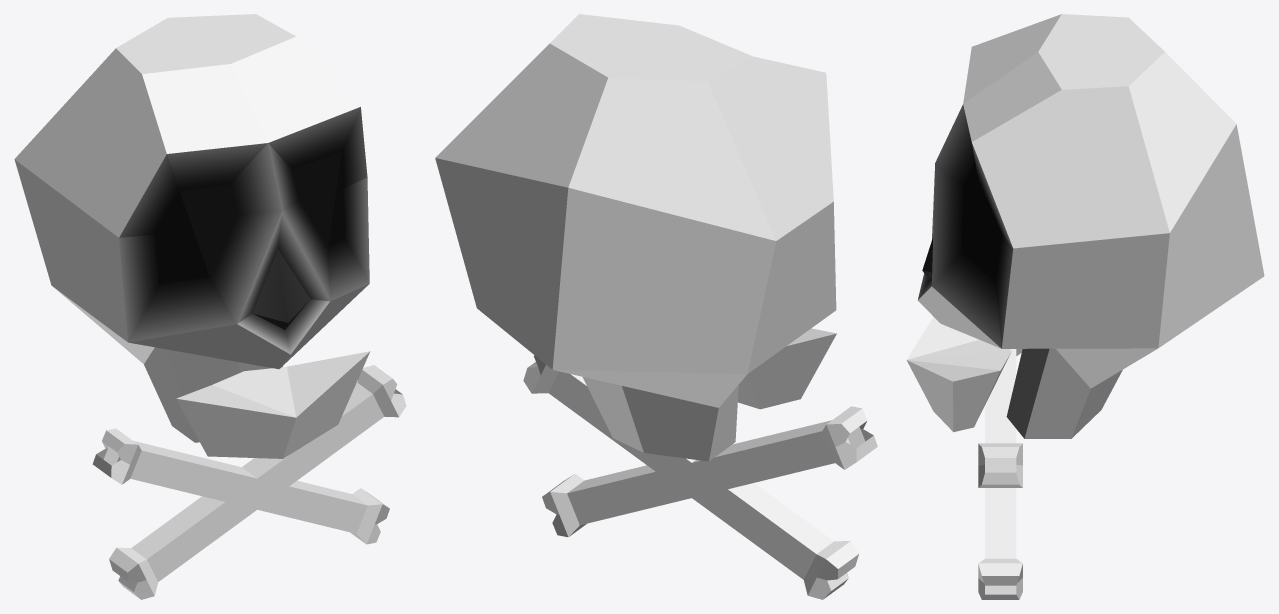
The model's file is Dead.glb.
3 views of the same model, side by side, from view 1: azimuth 30°, elevation 25°; view 2: azimuth 150°, elevation 25°; view 3: azimuth 270°, elevation 25° (orthographic). The views are drawn at different scales.
Parts seen in each view (by area): view 1: Haddi; view 2: Haddi; view 3: Haddi.
Part boxes in pixels (x1=…): Haddi: x1=14, y1=14, x2=406, y2=599; Haddi: x1=435, y1=14, x2=877, y2=599; Haddi: x1=906, y1=14, x2=1264, y2=599.
Size of the model in its own units: 2.69 by 4.14 by 2.74.
Materials: 1 (1 with a texture image).
